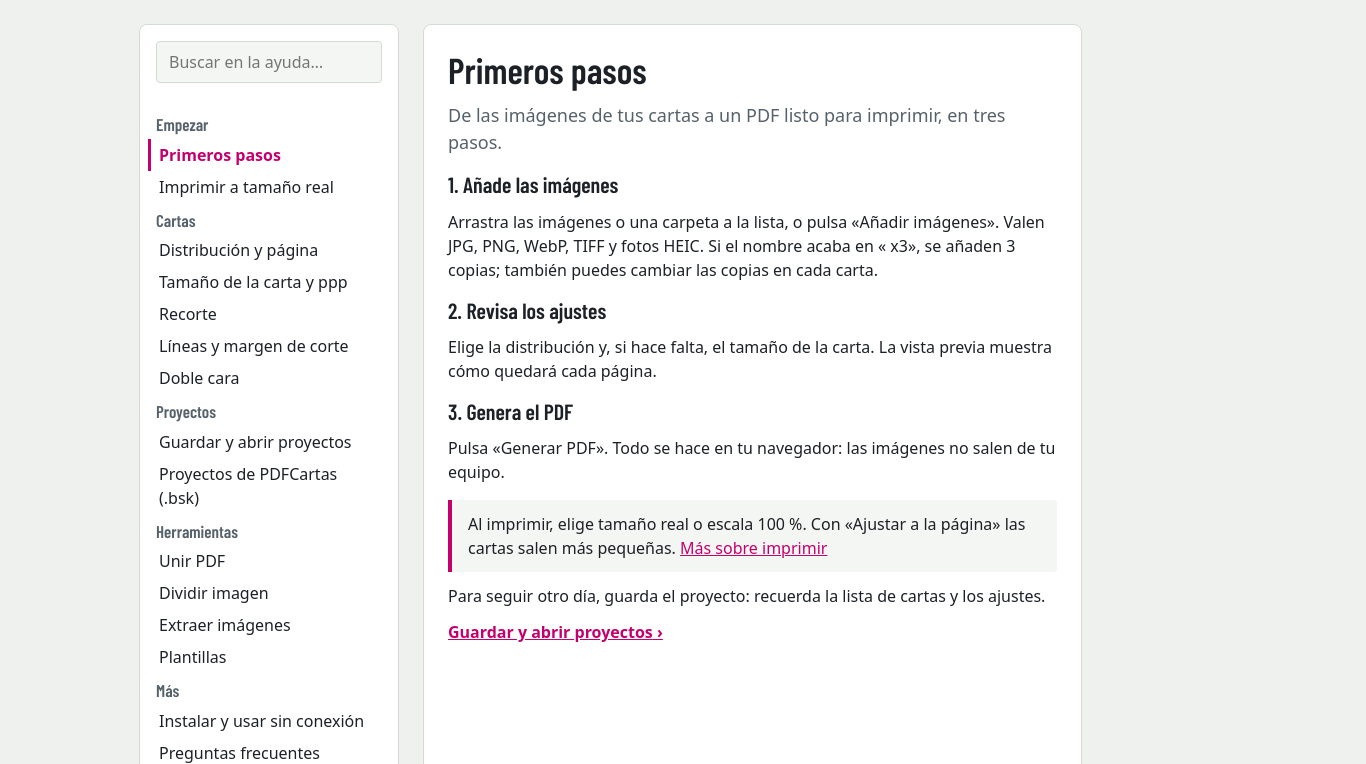
Scenario: Ayuda › al cambiar de tema, el foco va al título
expect the text "en tres pasos" is shown: met, box [448,103,1006,154]
Click the link "Doble cara" at [199, 378], box [159,367,239,389]
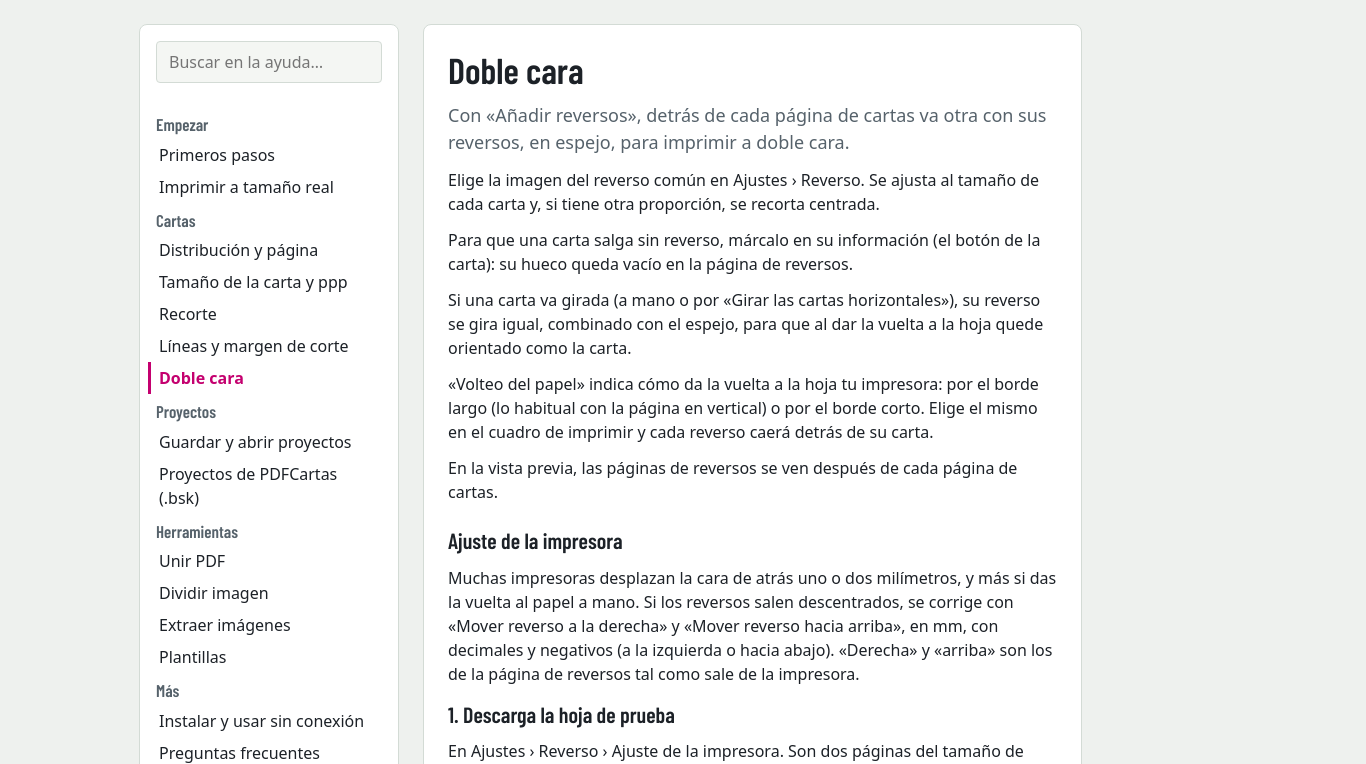
expect the text "en espejo" is shown: met, box [448,103,1046,154]
